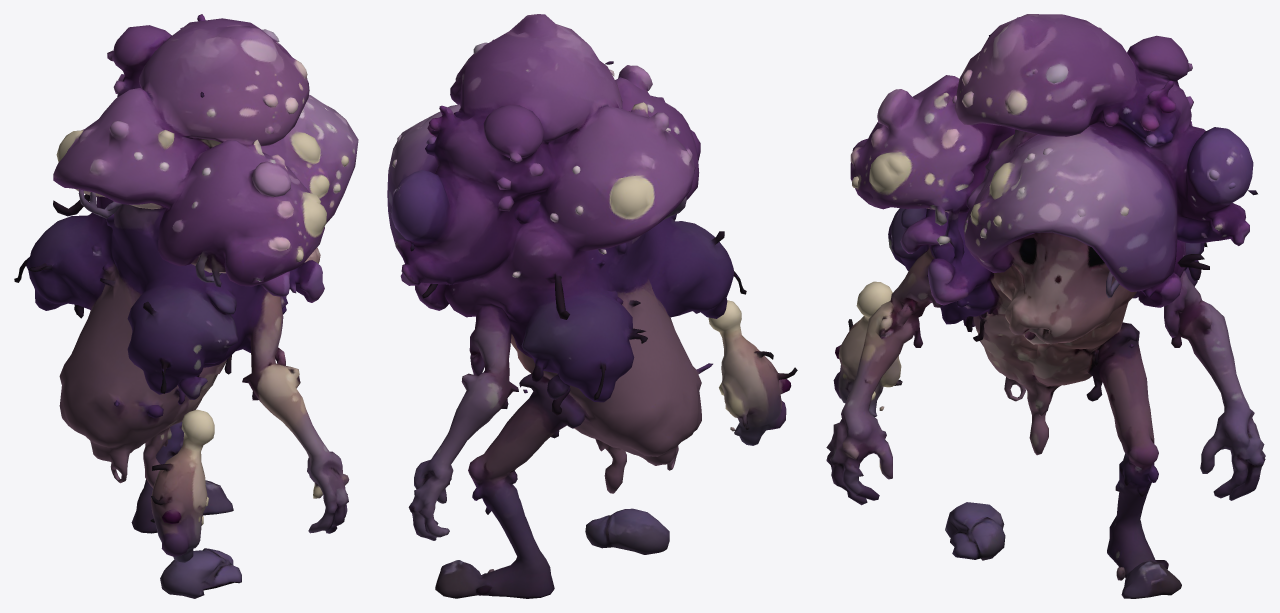
3 views of the same model, side by side, from view 1: azimuth 30°, elevation 25°; view 2: azimuth 150°, elevation 25°; view 3: azimuth 270°, elevation 25° (orthographic). The views are drawn at different scales.
Parts seen in each view (by area): view 1: tripo_node_3ea4fb8b-646b-4241-b7fd-00fdfd8474b1; view 2: tripo_node_3ea4fb8b-646b-4241-b7fd-00fdfd8474b1; view 3: tripo_node_3ea4fb8b-646b-4241-b7fd-00fdfd8474b1.
Boxes of the visible parts, <box> form: tripo_node_3ea4fb8b-646b-4241-b7fd-00fdfd8474b1: <box>14,14,358,598</box>; tripo_node_3ea4fb8b-646b-4241-b7fd-00fdfd8474b1: <box>387,14,797,598</box>; tripo_node_3ea4fb8b-646b-4241-b7fd-00fdfd8474b1: <box>826,14,1265,598</box>.
Bounding box in the file's own units: 0.5812 × 1 × 0.7104.
Materials: 1 (1 with a texture image).
